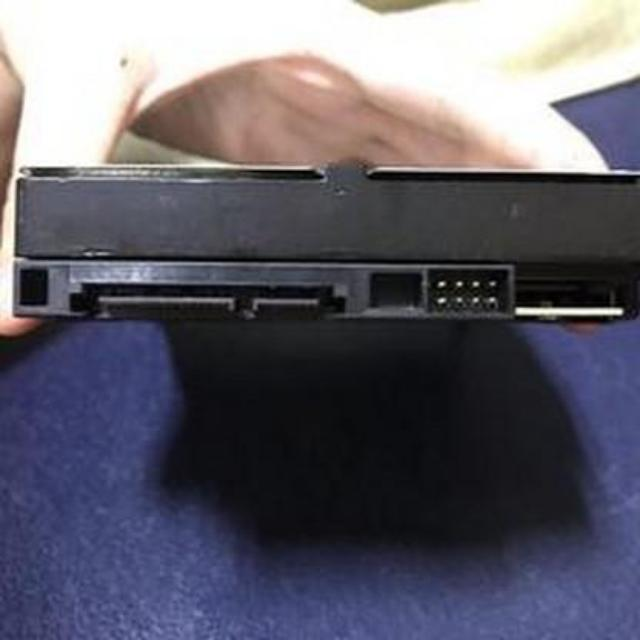DISK: (0, 142, 640, 342)
